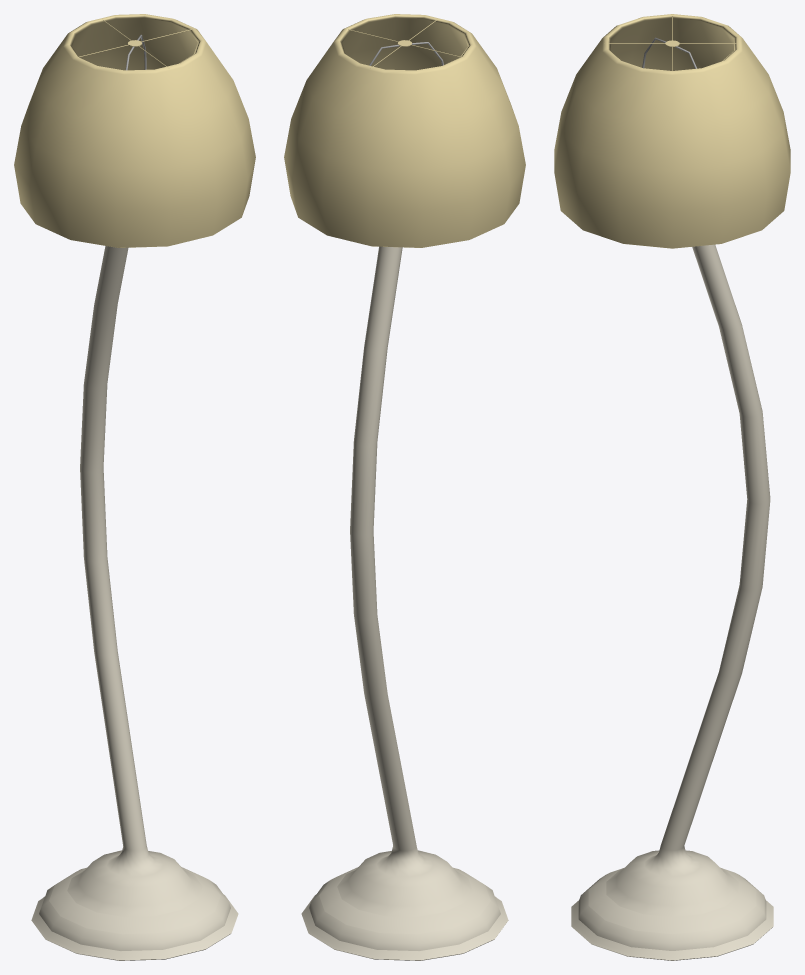
File: Geo_lamp.fbx
The picture shows the model from 3 angles, left to right: view 1: azimuth 30°, elevation 25°; view 2: azimuth 150°, elevation 25°; view 3: azimuth 270°, elevation 25°; orthographic projection.
Parts seen in each view (by area): view 1: lampShade, lamp_Pole; view 2: lampShade, lamp_Pole; view 3: lampShade, lamp_Pole.
Boxes of the visible parts, x1,y1,x2,y2 form: lampShade: (14,14,255,247); lamp_Pole: (31,246,238,960); lampShade: (284,14,525,247); lamp_Pole: (301,246,508,960); lampShade: (554,14,790,248); lamp_Pole: (571,244,773,960).
Bounding box in the file's own units: 20.73 × 82.55 × 20.21.
